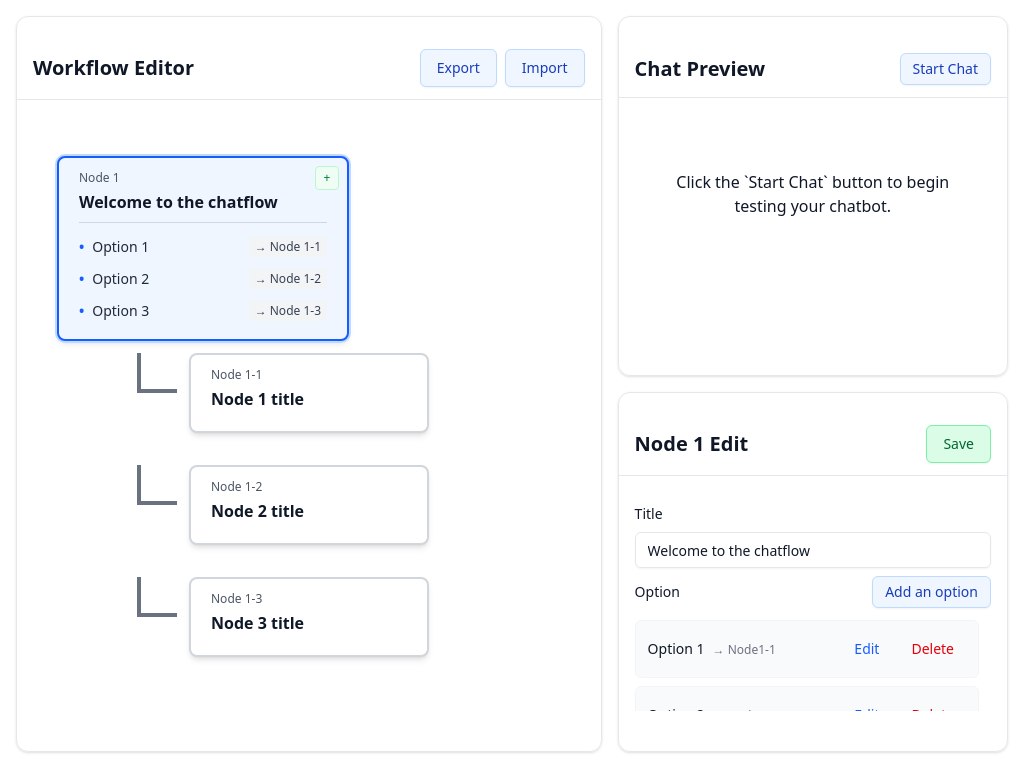
ChatbotEditor - Chat Functionality › starts chat when Start Chat button is clicked
This screenshot has width=1024, height=768.
Click the button "Start Chat" at (945, 69), box [900,53,991,85]
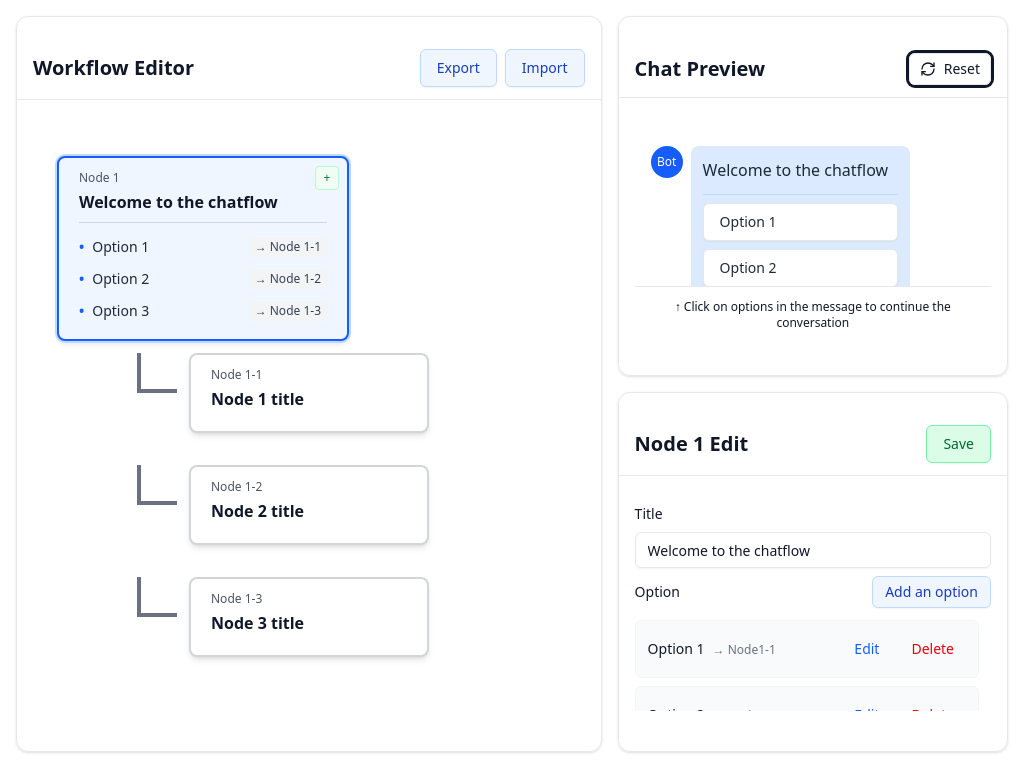
expect the text "Welcome to the chatflow" is shown 2 times: met, box [79,191,278,213]; [703,158,898,182]
expect the button "Reset" is shown: met, box [909,53,991,85]
expect the button "Start Chat" is gone: met
